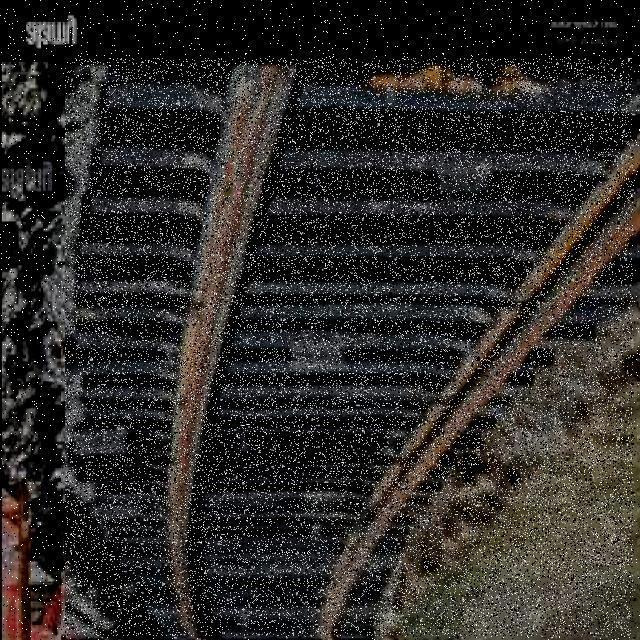rail: (66, 59, 633, 636)
